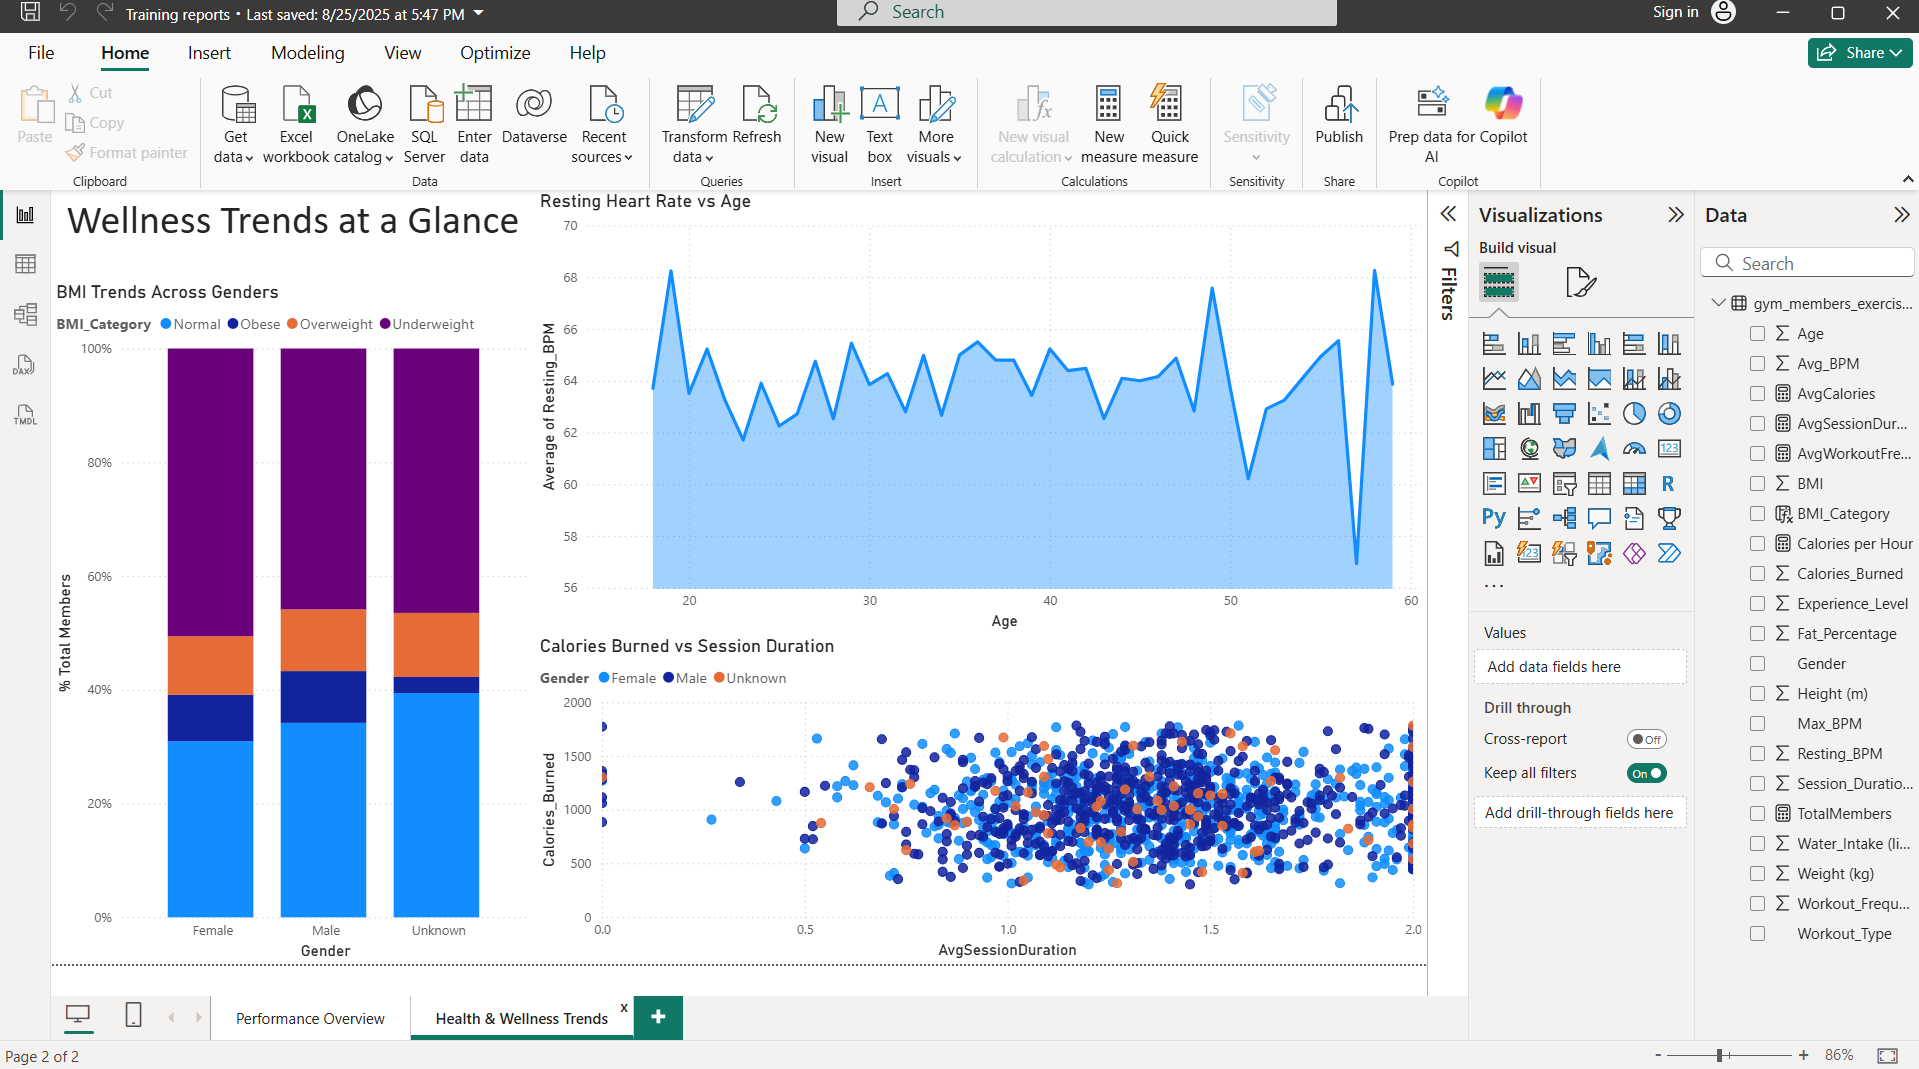

The page's visual inventory and layout, read from the dashboard file:
{"tool":"powerbi","page":{"name":"Health & Wellness Trends","canvas":[1280,720],"ordinal":1},"visuals":[{"type":"hundredPercentStackedColumnChart","title":"BMI Trends Across Genders","fields":{"Category":["gym_members_exercise_tracking_synthetic_data.Gender"],"Y":["gym_members_exercise_tracking_synthetic_data.TotalMembers"],"Series":["gym_members_exercise_tracking_synthetic_data.BMI_Category"]},"box":[0,84.8,450,635.4],"z":0},{"type":"scatterChart","title":"Calories Burned vs Session Duration","fields":{"X":["gym_members_exercise_tracking_synthetic_data.AvgSessionDuration"],"Y":["gym_members_exercise_tracking_synthetic_data.Calories_Burned"],"Series":["gym_members_exercise_tracking_synthetic_data.Gender"]},"box":[450.1,414.4,830.2,306],"z":1000},{"type":"areaChart","title":"Resting Heart Rate vs Age","fields":{"Y":["Avg(gym_members_exercise_tracking_synthetic_data.Resting_BPM)"],"Category":["gym_members_exercise_tracking_synthetic_data.Age"]},"box":[450,0,830,414],"z":2000},{"type":"textbox","box":[0,0,450,58.8],"z":2001}]}

Visuals, with their boxes on the page's 1280x720 design canvas (x1, y1, x2, y2). These are canvas units, not pixel positions in the 1919x1069 screenshot, which may show the page scaled, cropped or inside an application window:
"BMI Trends Across Genders" hundredPercentStackedColumnChart: [left=0, top=85, right=450, bottom=720]
"Calories Burned vs Session Duration" scatterChart: [left=450, top=414, right=1280, bottom=720]
"Resting Heart Rate vs Age" areaChart: [left=450, top=0, right=1280, bottom=414]
textbox: [left=0, top=0, right=450, bottom=59]
